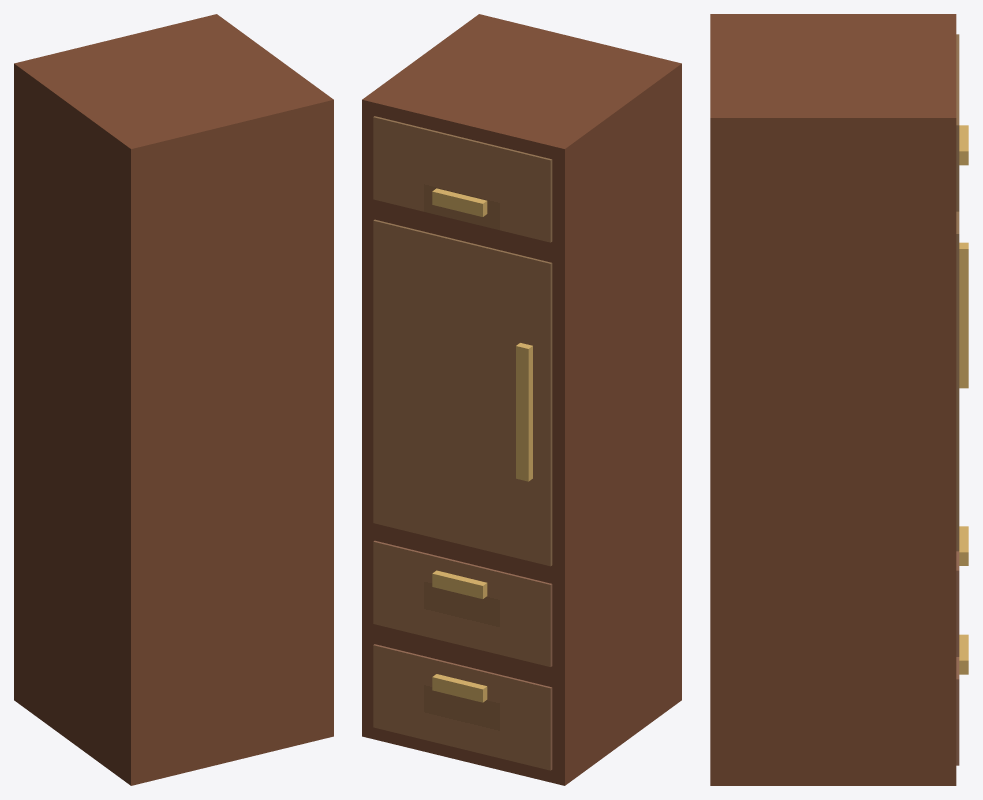
The model's file is tallcabinet.fbx.
3 renders of one model, left to right at view 1: azimuth 30°, elevation 25°; view 2: azimuth 150°, elevation 25°; view 3: azimuth 270°, elevation 25°, orthographic. The views are drawn at different scales.
Visible parts, largest first — view 1: cube_6, cube, cube_5; view 2: cube_6, cube_7, cube, cube_5, cube_1, cube_2, cube_8, cube_9, cube_3, cube_4, cube_10; view 3: cube_6, cube_5, cube, cube_9, cube_7, cube_8.
Part boxes in pixels (x1,y1,x2,y2): cube_6: (14,14,333,361); cube: (14,488,333,785); cube_5: (14,276,333,573); cube_6: (362,14,681,361); cube_7: (373,219,552,566); cube: (362,488,681,785); cube_5: (362,276,681,573); cube_1: (373,644,552,770); cube_2: (373,540,552,666); cube_8: (373,116,552,242); cube_9: (516,343,532,481); cube_3: (432,674,487,702); cube_4: (432,570,487,598); cube_10: (432,188,487,216); cube_6: (710,14,956,340); cube_5: (710,340,956,563); cube: (710,563,956,785); cube_9: (959,242,968,388); cube_7: (956,211,959,551); cube_8: (956,34,959,211).
Bounding box in the file's own units: 50 × 150 × 52.5.
1 material, 1 textured.
